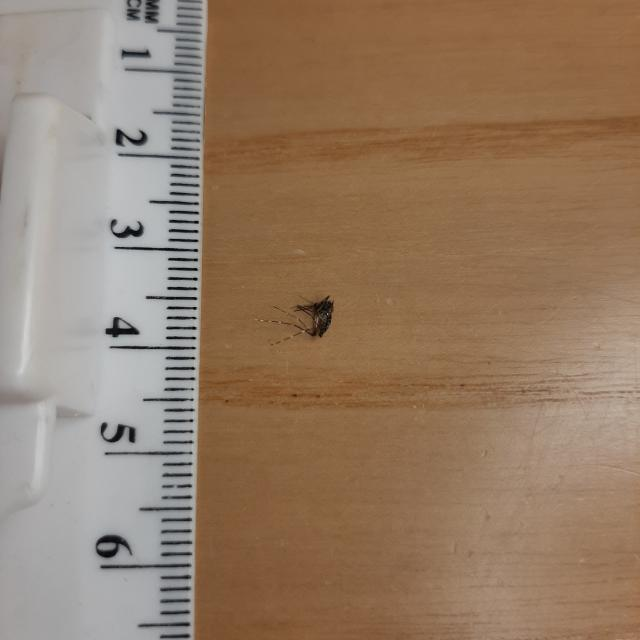albopictus: (255, 286, 339, 350)
